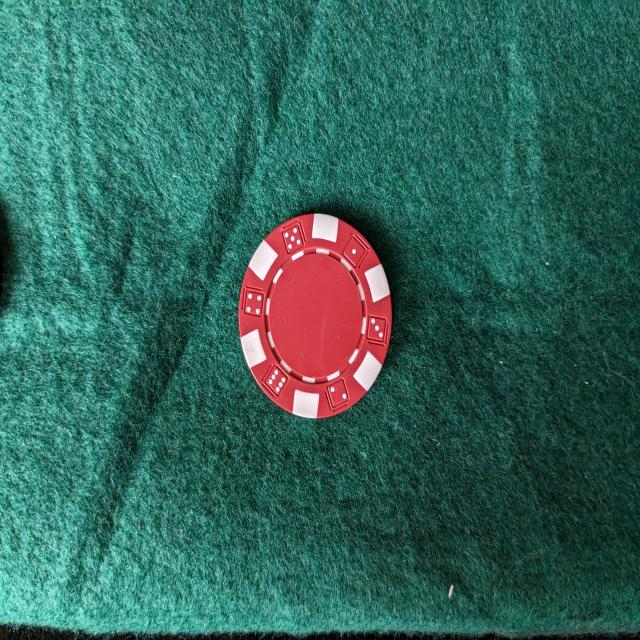red chip: (236, 212, 393, 420)
